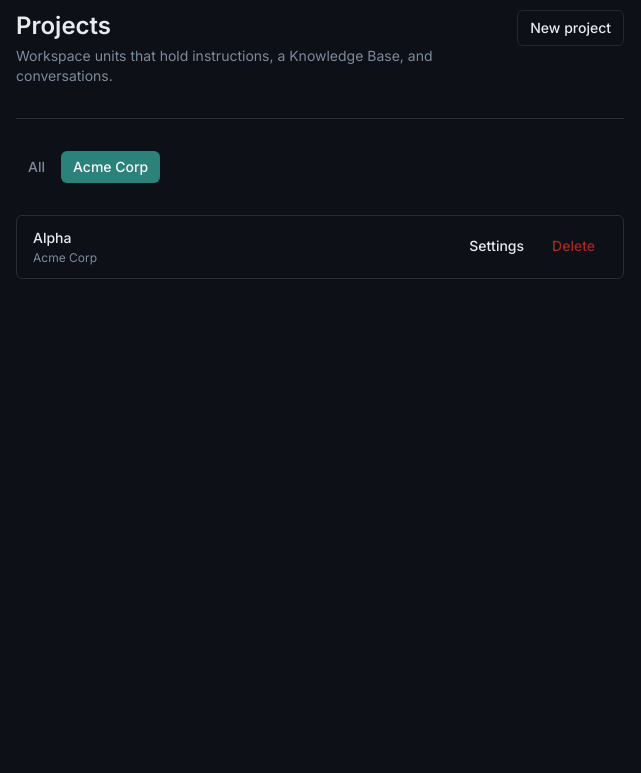
Test: ProjectsPage — Knowledge Base section (KIN-370) › shows Create Knowledge Base button when no KB attached to the project
Expected: the text "Alpha" is shown, [33, 229, 72, 246]
Click the button "Settings". click: (497, 246)
box: [457, 228, 536, 264]
(page scrolled)
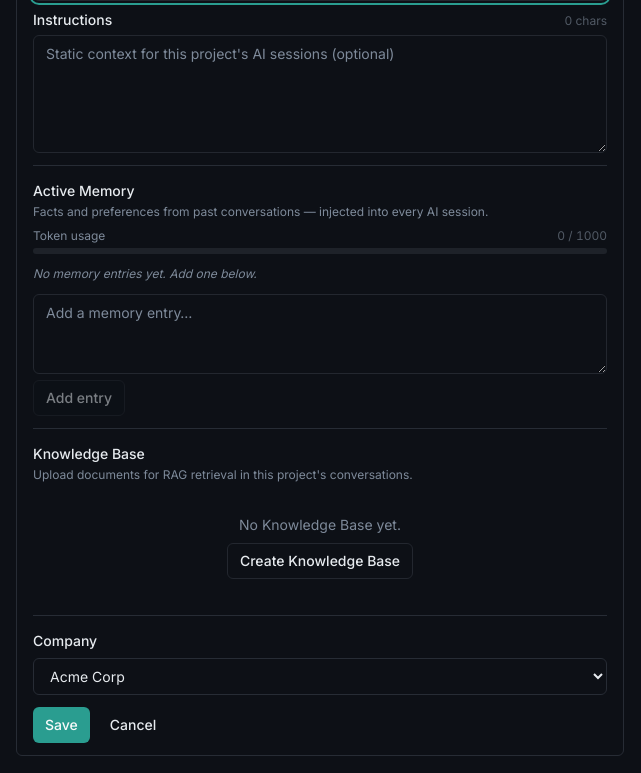
Now the button "Create Knowledge Base" is shown, box [227, 543, 413, 579]
